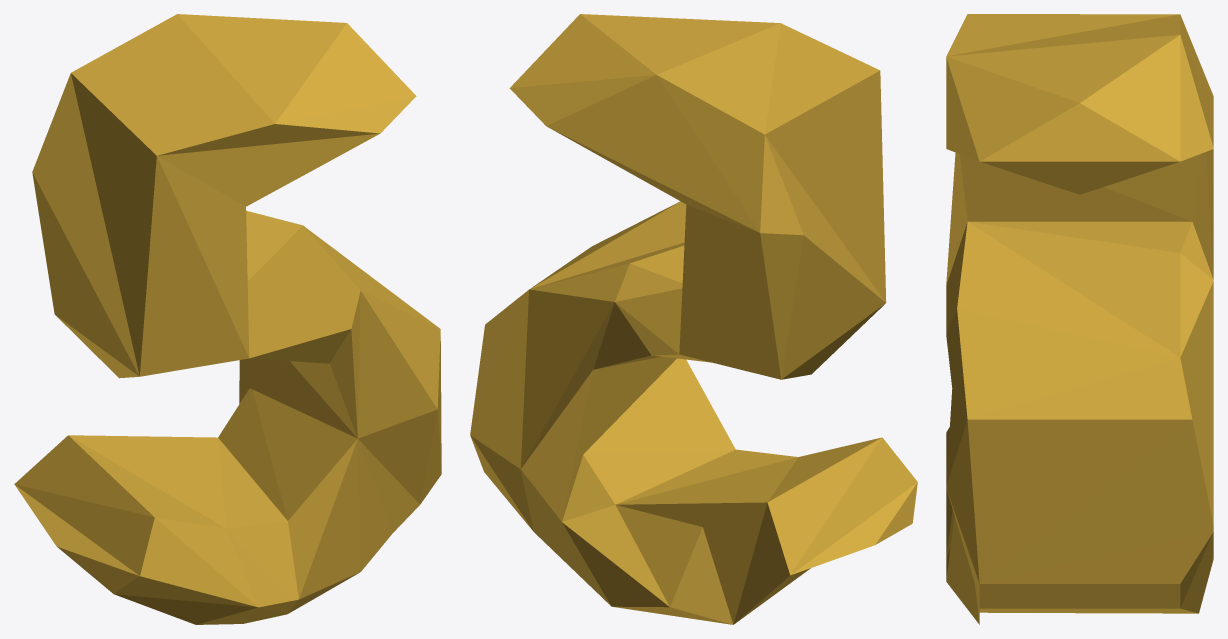
3 renders of one model, left to right at view 1: azimuth 30°, elevation 25°; view 2: azimuth 150°, elevation 25°; view 3: azimuth 270°, elevation 25°, orthographic. The views are drawn at different scales.
Visible parts, largest first — view 1: 5_0057D0_0; view 2: 5_0057D0_0; view 3: 5_0057D0_0.
Boxes of the visible parts, x1,y1,x2,y2 form: 5_0057D0_0: [14, 14, 441, 624]; 5_0057D0_0: [470, 14, 917, 624]; 5_0057D0_0: [946, 14, 1213, 624].
Bounding box in the file's own units: 46.59 × 70.48 × 30.
